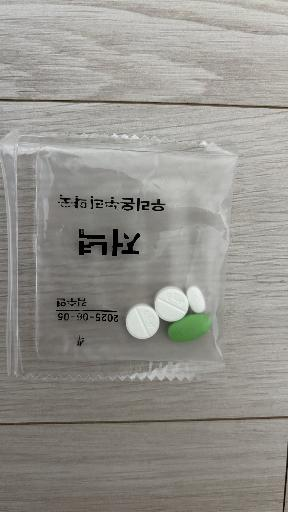Allerin: (187, 286, 206, 313)
Flasinyl: (154, 286, 189, 322), (126, 304, 160, 340)
Sto M: (168, 314, 212, 342)
vinyl: (1, 131, 238, 378)
